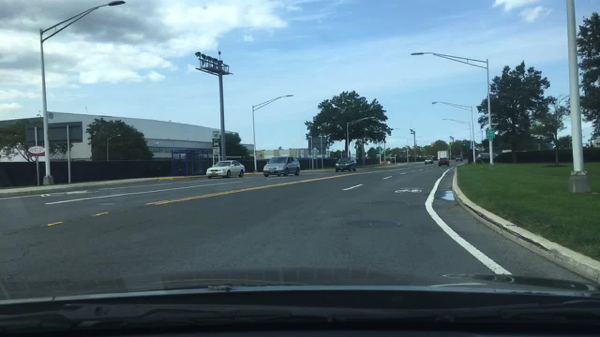car: (207, 160, 246, 181), (264, 156, 301, 177), (335, 157, 358, 173), (475, 154, 499, 163), (438, 157, 449, 166), (424, 156, 434, 164), (455, 155, 463, 162)
traffic light: (449, 141, 452, 146), (431, 142, 433, 148), (462, 141, 464, 146)
traffic sign: (25, 121, 82, 145), (308, 137, 324, 154), (212, 131, 221, 154), (486, 128, 494, 140), (311, 147, 319, 155), (313, 155, 317, 161)
truck: (437, 150, 447, 158)
